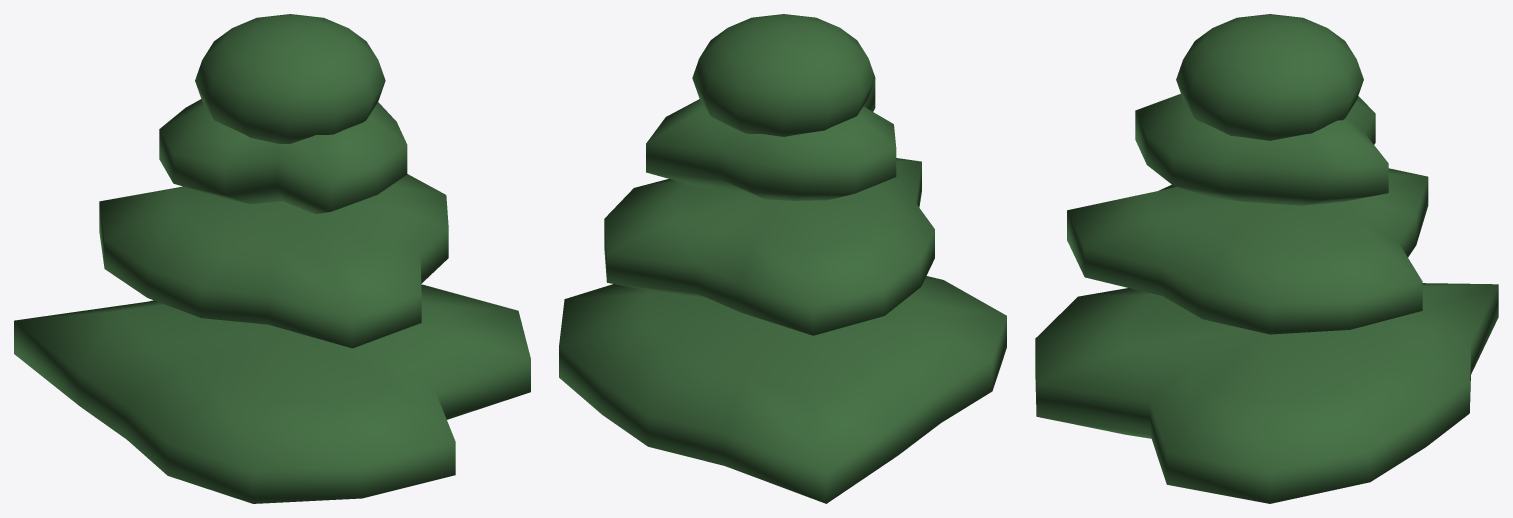
File: shrub_08.glb
3 views of the same model, side by side, from view 1: azimuth 30°, elevation 25°; view 2: azimuth 150°, elevation 25°; view 3: azimuth 270°, elevation 25° (orthographic). The views are drawn at different scales.
Visible parts, largest first — view 1: Tint; view 2: Tint; view 3: Tint.
Boxes of the visible parts, x1,y1,x2,y2 form: Tint: [14, 14, 530, 503]; Tint: [559, 14, 1006, 503]; Tint: [1035, 14, 1498, 503].
Size of the model in its own units: 0.7713 by 0.76 by 0.7891.
